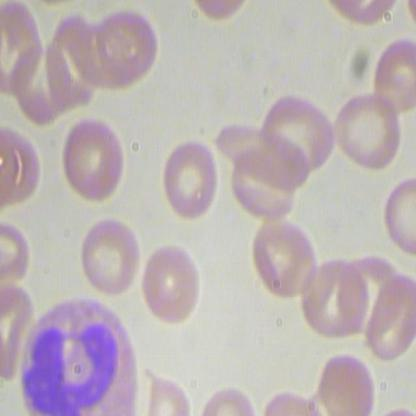RBC: (255, 88, 338, 185), (234, 215, 326, 302), (207, 118, 312, 194), (90, 3, 163, 96), (55, 115, 127, 209), (331, 84, 403, 178), (299, 248, 372, 340), (138, 237, 208, 328), (157, 136, 220, 225), (78, 211, 140, 301), (313, 345, 379, 415)
WBC: (18, 295, 141, 415)
